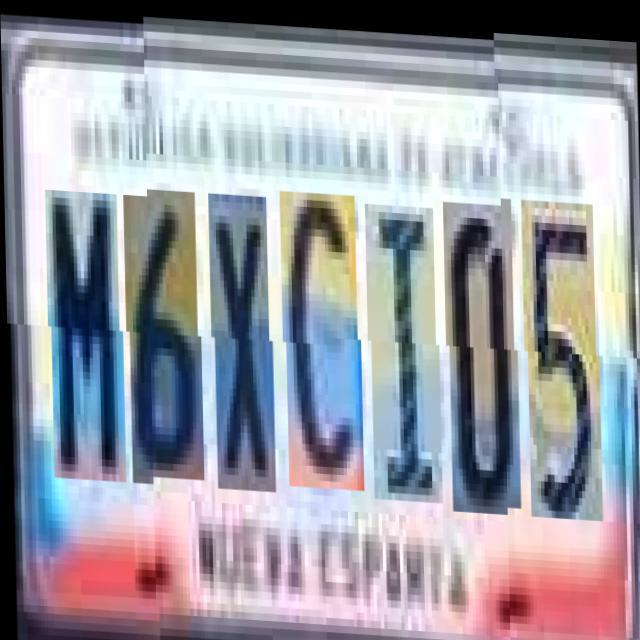0: (446, 196, 518, 508)
5: (524, 200, 601, 520)
6: (125, 187, 202, 478)
C: (282, 187, 362, 486)
I: (368, 198, 440, 498)
M: (47, 182, 124, 473)
X: (210, 191, 274, 488)
